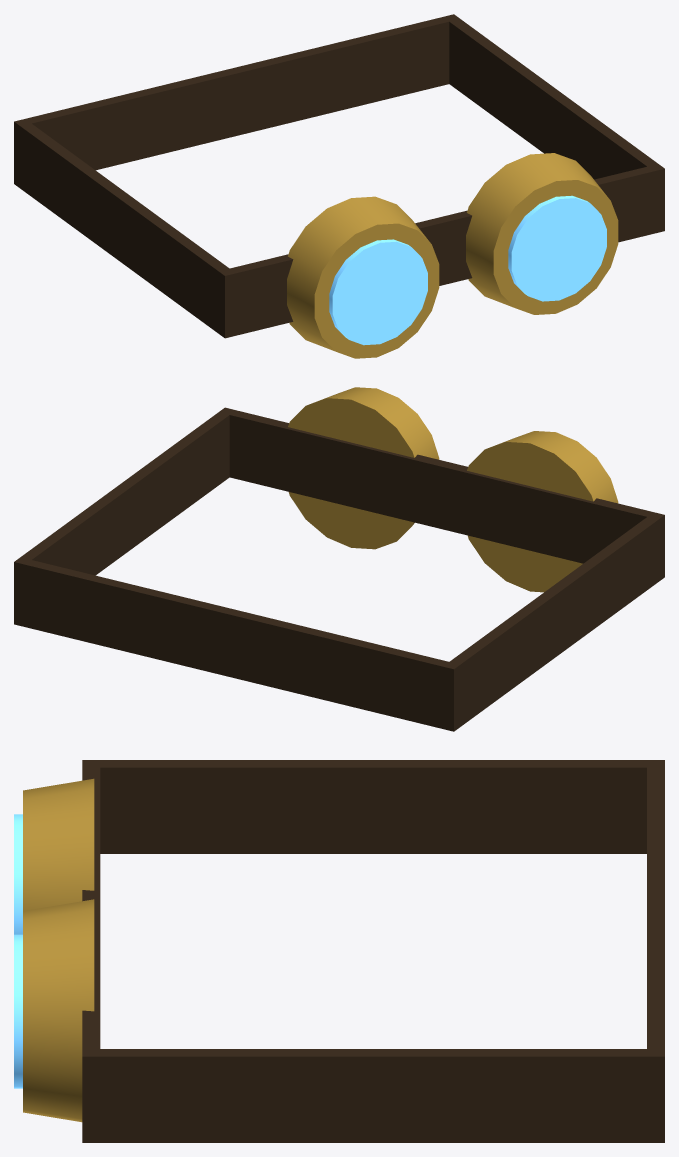
The model's file is robot-goggles.glb.
3 views of the same model, one above another, from view 1: azimuth 30°, elevation 25°; view 2: azimuth 150°, elevation 25°; view 3: azimuth 270°, elevation 25° (orthographic). The views are drawn at different scales.
Visible parts, largest first — view 1: strapBack, strapL, strapR, cupR, cupL, strapFront, glassR, glassL; view 2: strapBack, strapFront, strapL, strapR, cupR, cupL; view 3: strapR, strapL, cupR, cupL, strapBack, strapFront, glassR, glassL.
Part boxes in pixels (x1=…): strapBack: x1=22, y1=16, x2=452, y2=170; strapL: x1=14, y1=119, x2=236, y2=338; strapR: x1=444, y1=14, x2=664, y2=233; cupR: x1=466, y1=153, x2=618, y2=314; cupL: x1=287, y1=196, x2=439, y2=358; strapFront: x1=226, y1=166, x2=657, y2=336; glassR: x1=508, y1=195, x2=606, y2=301; glassL: x1=329, y1=239, x2=427, y2=345; strapBack: x1=21, y1=559, x2=452, y2=729; strapFront: x1=227, y1=409, x2=653, y2=563; strapL: x1=442, y1=512, x2=664, y2=731; strapR: x1=14, y1=407, x2=235, y2=626; cupR: x1=288, y1=387, x2=439, y2=549; cupL: x1=467, y1=431, x2=618, y2=592; strapR: x1=82, y1=1049, x2=664, y2=1142; strapL: x1=82, y1=760, x2=664, y2=853; cupR: x1=23, y1=899, x2=94, y2=1122; cupL: x1=23, y1=778, x2=94, y2=910; strapBack: x1=647, y1=765, x2=664, y2=1051; strapFront: x1=82, y1=765, x2=100, y2=1051; glassR: x1=14, y1=934, x2=22, y2=1088; glassL: x1=14, y1=814, x2=22, y2=934.
Size of the model in its own units: 1.18 by 0.38 by 1.1.
